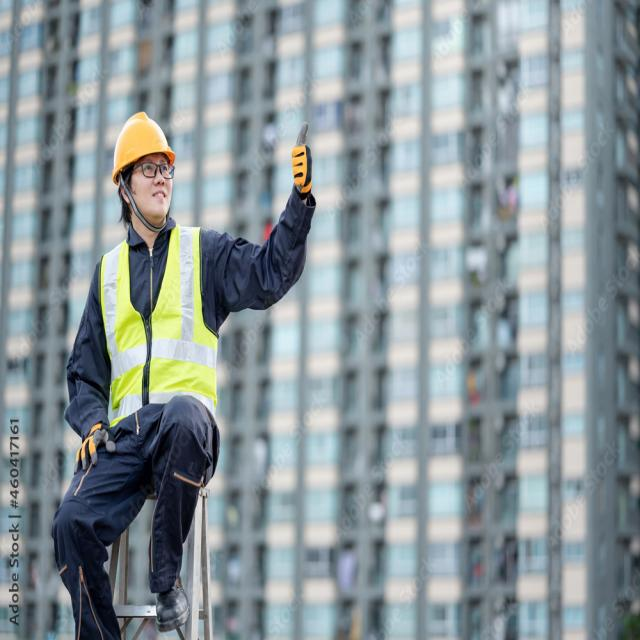helmet: (97, 103, 181, 173)
no-goggles: (137, 152, 180, 185)
vest: (95, 238, 224, 411)
